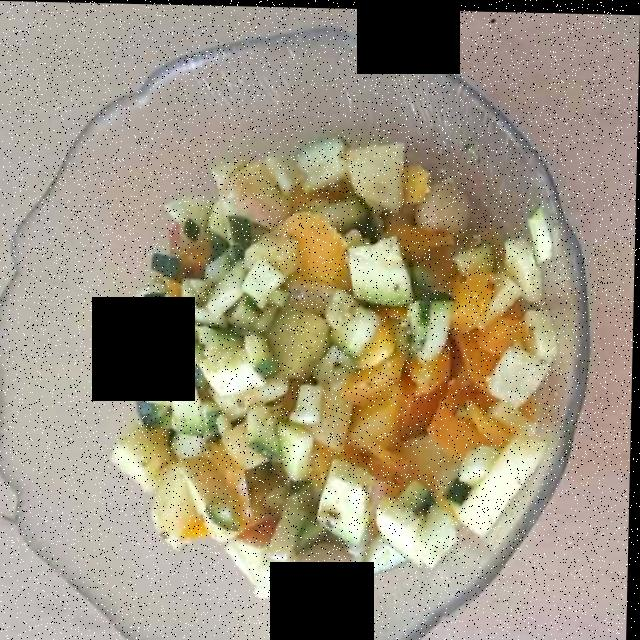chickpeas: (297, 163, 490, 632)
zucchini: (137, 177, 309, 442)
